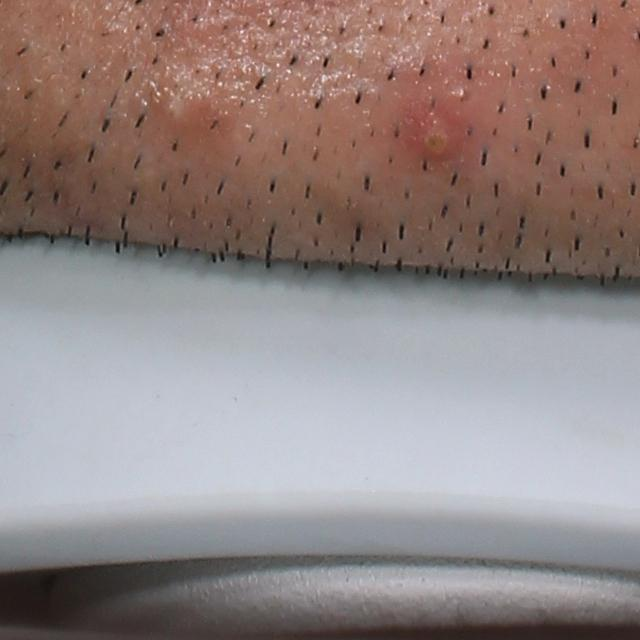pustule: (147, 80, 210, 143), (404, 99, 460, 160)
